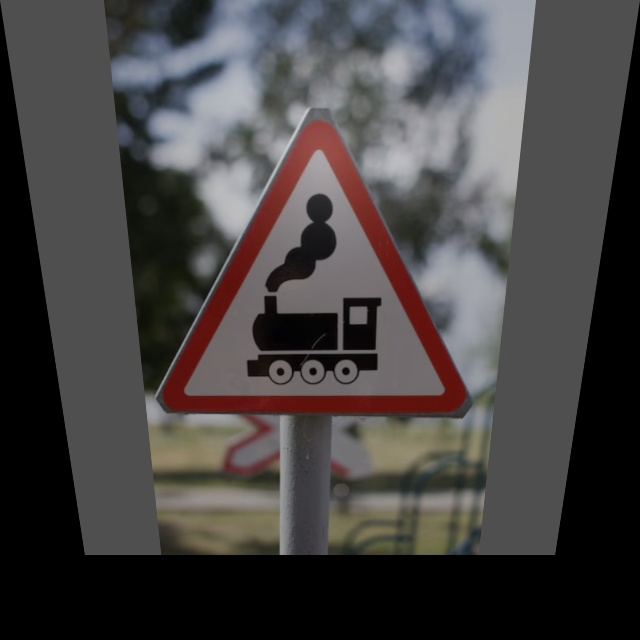Unguarded_Level_Crossing: (144, 101, 490, 418)
